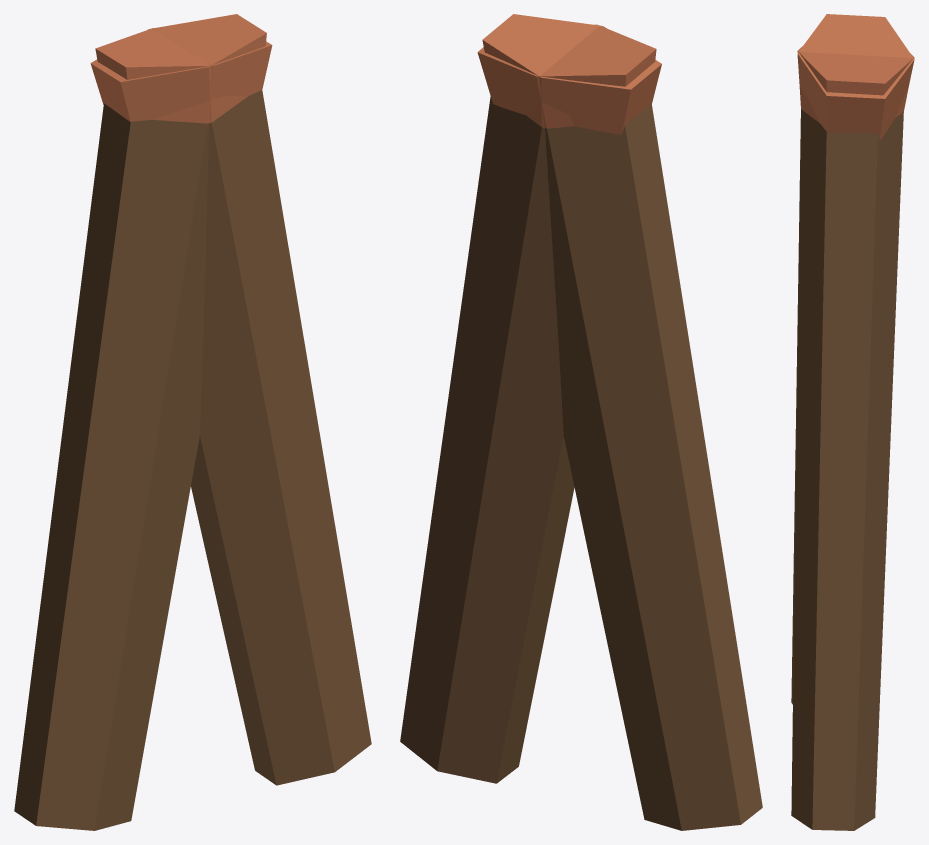
The model's file is sheaths.glb.
The picture shows the model from 3 angles, left to right: view 1: azimuth 30°, elevation 25°; view 2: azimuth 150°, elevation 25°; view 3: azimuth 270°, elevation 25°; orthographic projection. The views are drawn at different scales.
Parts seen in each view (by area): view 1: sheaths; view 2: sheaths; view 3: sheaths.
Part boxes in pixels (<box>): sheaths: <box>14,14,371,830</box>; sheaths: <box>400,14,762,830</box>; sheaths: <box>791,14,914,830</box>.
Bounding box in the file's own units: 0.3128 × 0.666 × 0.1029.
